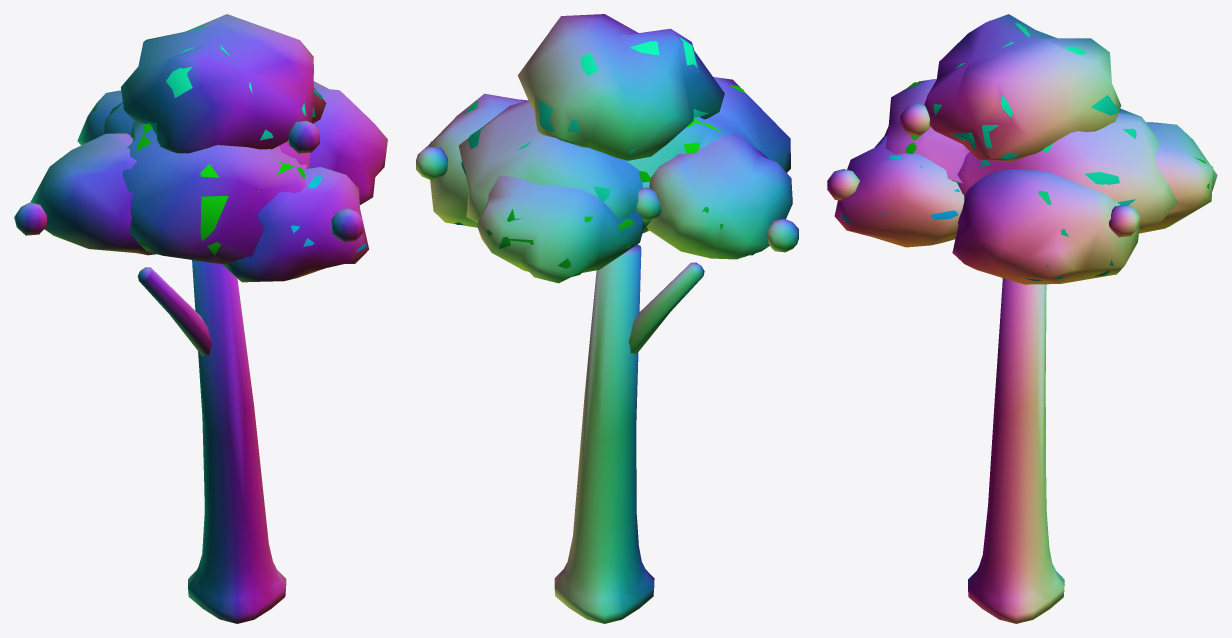
File: SM_Foliage_Plains_FruitTree_A_LOD1.fbx
The picture shows the model from 3 angles, left to right: view 1: azimuth 30°, elevation 25°; view 2: azimuth 150°, elevation 25°; view 3: azimuth 270°, elevation 25°; orthographic projection. The views are drawn at different scales.
Parts seen in each view (by area): view 1: SM_Foliage_Plains_FruitTree_A_LOD1; view 2: SM_Foliage_Plains_FruitTree_A_LOD1; view 3: SM_Foliage_Plains_FruitTree_A_LOD1.
Boxes of the visible parts, x1=… form: SM_Foliage_Plains_FruitTree_A_LOD1: x1=14, y1=14, x2=387, y2=623; SM_Foliage_Plains_FruitTree_A_LOD1: x1=416, y1=14, x2=798, y2=623; SM_Foliage_Plains_FruitTree_A_LOD1: x1=827, y1=14, x2=1217, y2=623.
Bounding box in the file's own units: 2.14 × 3.21 × 2.04.
